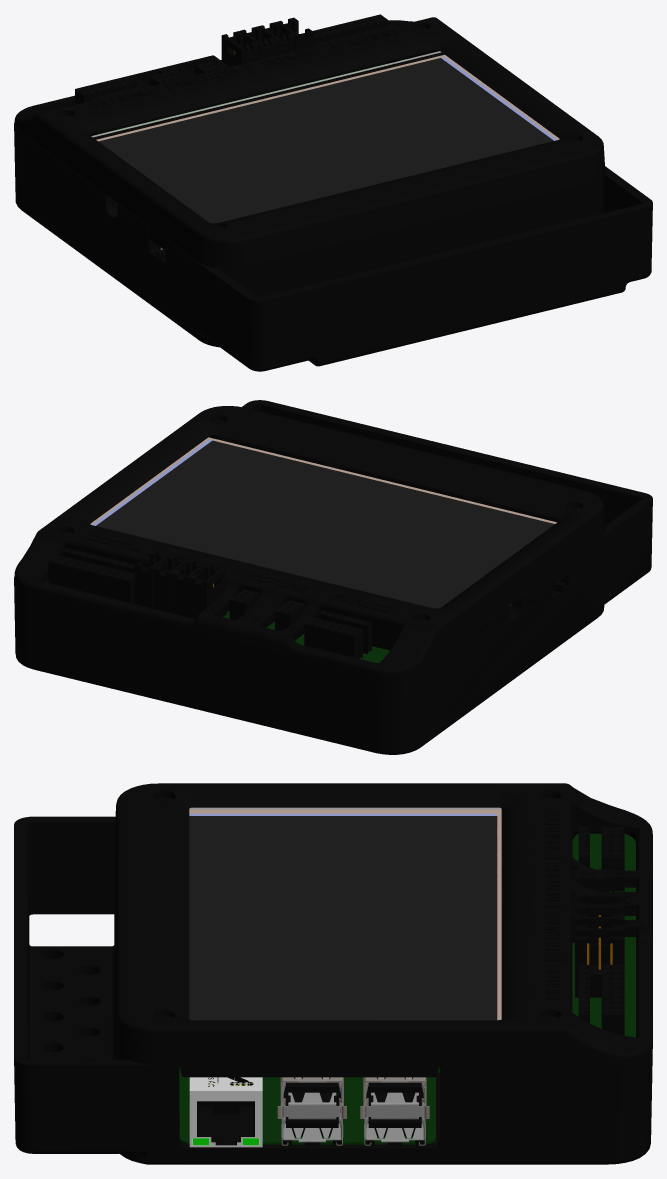
Rendered from electronics_012.obj.
The picture shows the model from 3 angles, top to bottom: view 1: azimuth 30°, elevation 25°; view 2: azimuth 150°, elevation 25°; view 3: azimuth 270°, elevation 25°; orthographic projection. The views are drawn at different scales.
Bounding box in the file's own units: 0.1287 × 0.0366 × 0.139.
